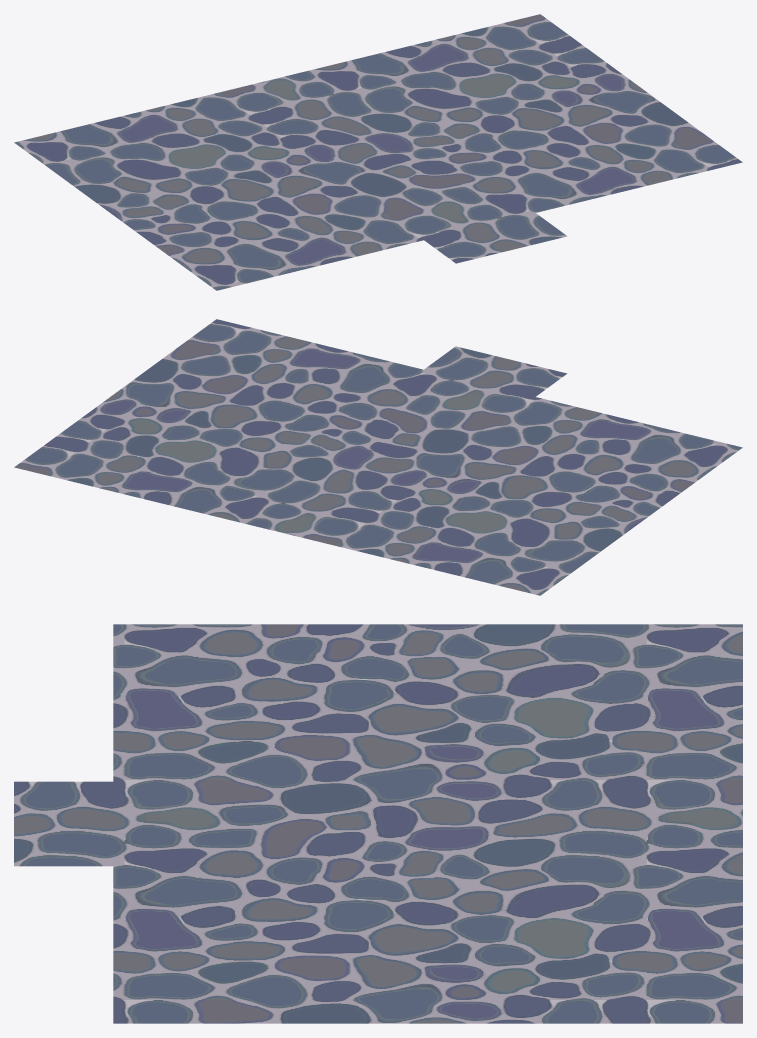
The model's file is Floor03_e01.FBX.
3 views of the same model, one above another, from view 1: azimuth 30°, elevation 25°; view 2: azimuth 150°, elevation 25°; view 3: azimuth 270°, elevation 25° (orthographic). The views are drawn at different scales.
Parts seen in each view (by area): view 1: Floor03_e01; view 2: Floor03_e01; view 3: Floor03_e01.
Boxes of the visible parts, <box> form: Floor03_e01: <box>14,14,742,290</box>; Floor03_e01: <box>14,319,742,595</box>; Floor03_e01: <box>14,624,742,1023</box>.
Bounding box in the file's own units: 900 × 0.000446 × 695.
Materials: 1 (1 with a texture image).
